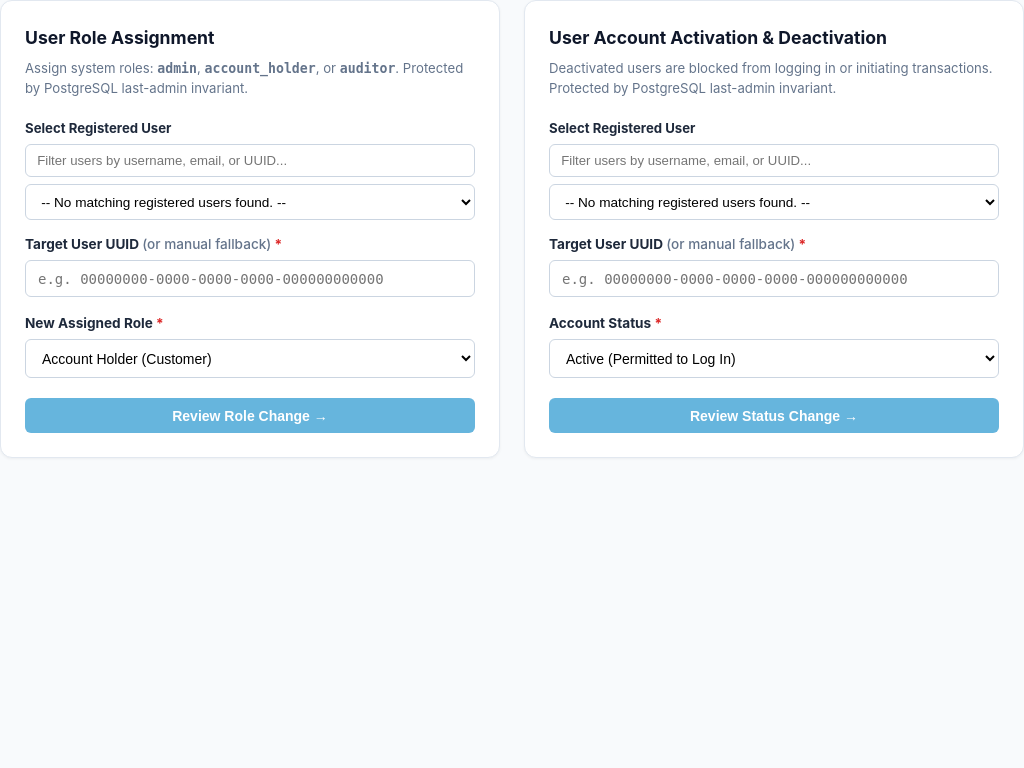
Admin Portal Component & Integration Suite (Stage 6) › 3. UserGovernanceForm Component (Role & Status) › displays last-active-admin 422 protection error clearly on demotion failure
The image size is (1024, 768).
Type "00000000-0000-0000-0000-000000000001" into the field with test id "input-role-user-id" at (250, 278), box left=25, top=260, right=475, bottom=297
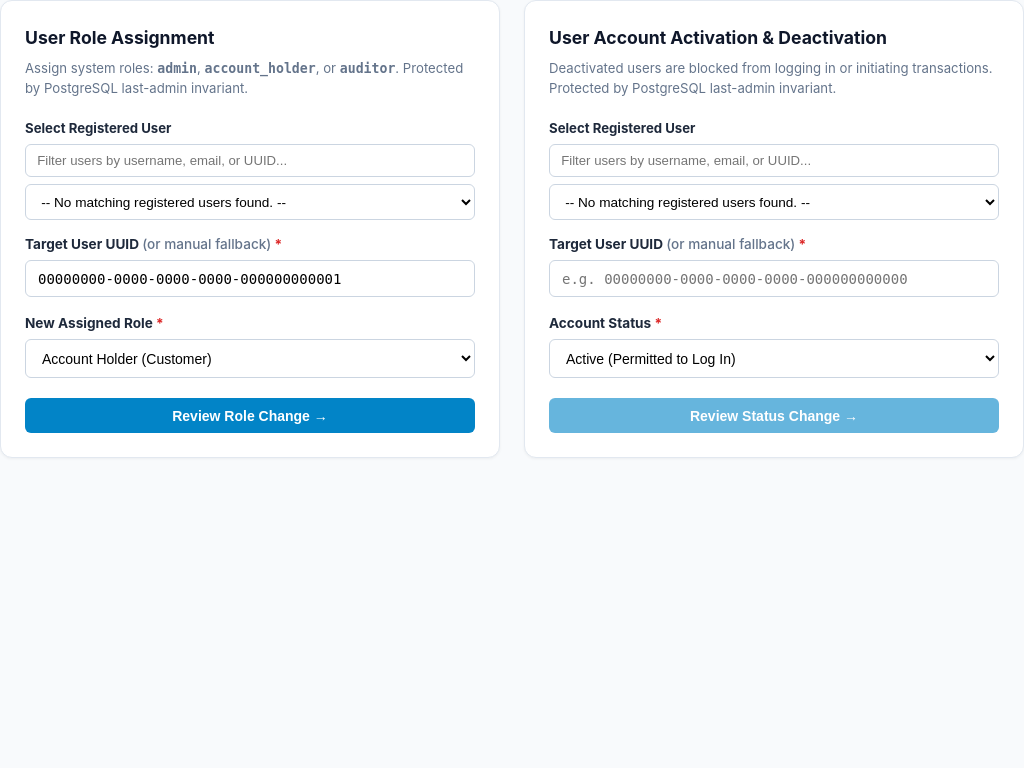
Select "Account Holder (Customer)" in the dropdown with test id "select-target-role" at (250, 359), box left=25, top=339, right=475, bottom=378
Click the button with test id "btn-initiate-role-update" at (250, 416), box left=25, top=398, right=475, bottom=434
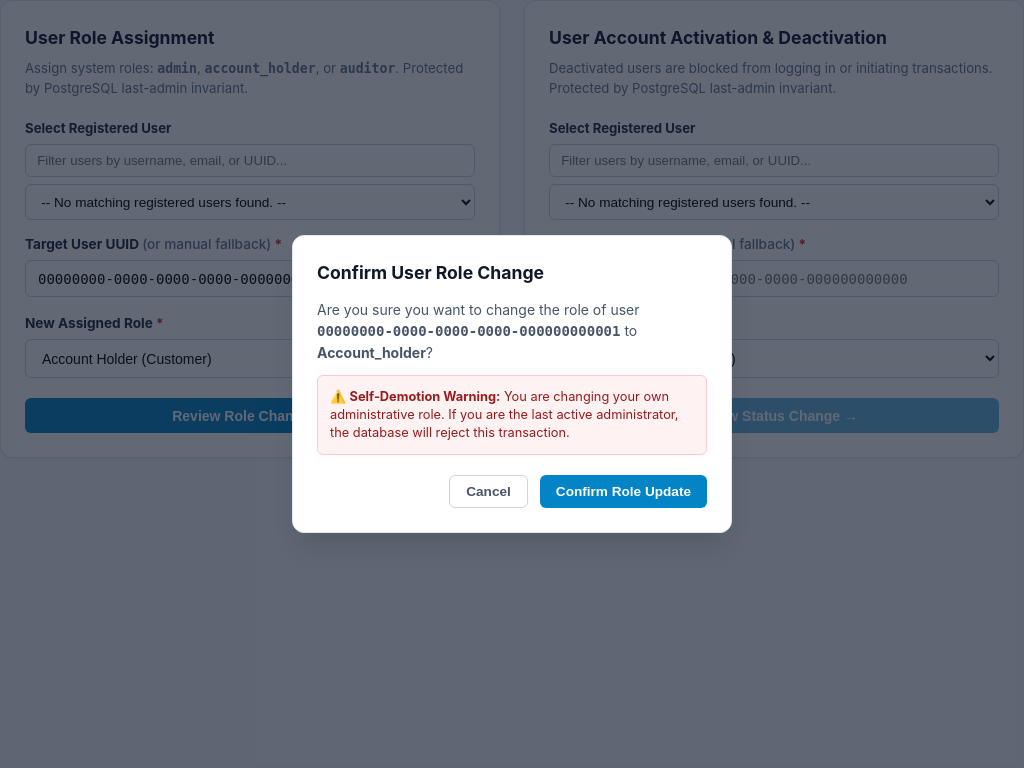
Now the text "Self-Demotion Warning:" is shown, box left=350, top=389, right=500, bottom=404
Click the button with test id "btn-confirm-role-update" at (623, 491), box left=540, top=474, right=707, bottom=508
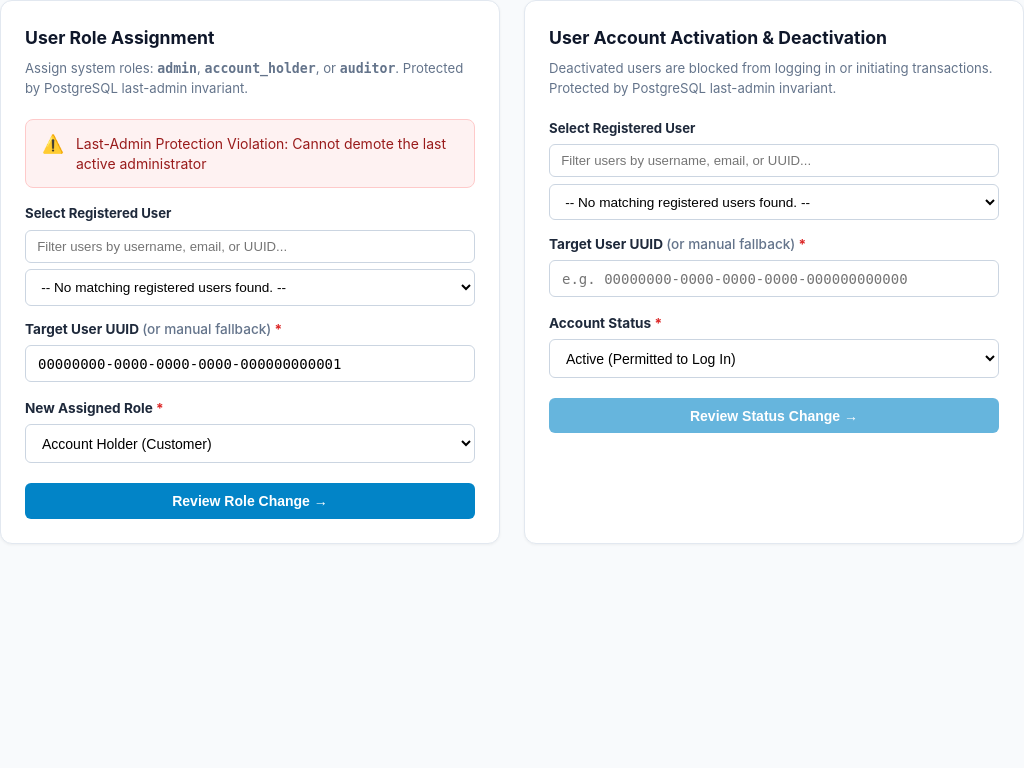
Now the text "Last-Admin Protection Violation: Cannot demote the last active administrator" is shown, box left=76, top=134, right=458, bottom=173
